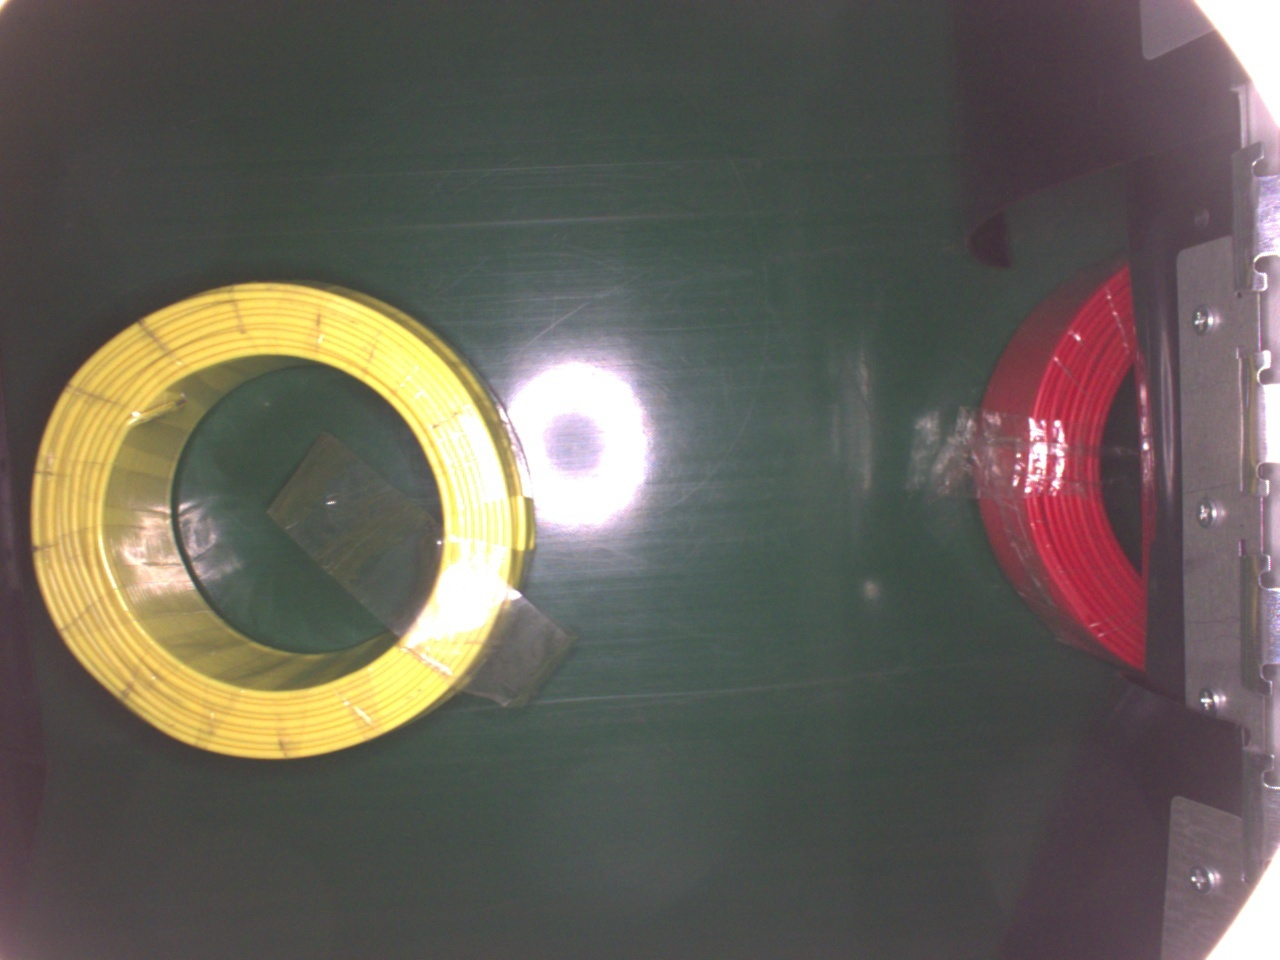red: (977, 254, 1152, 680)
yellow: (31, 276, 528, 764)
